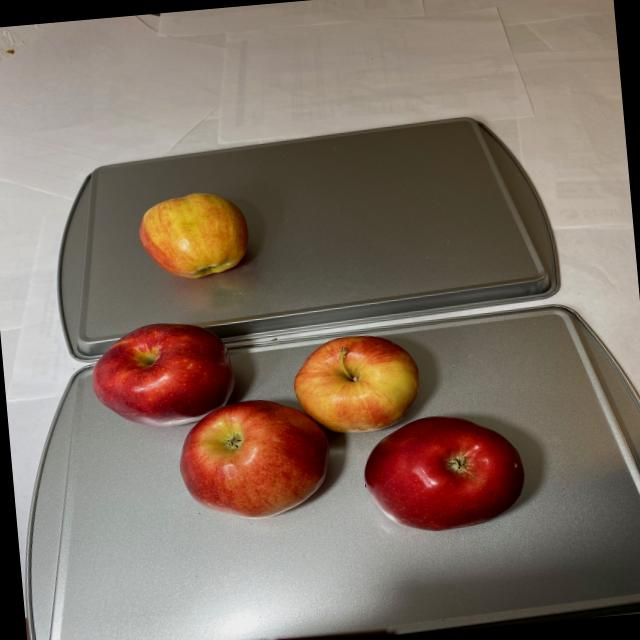apple: (89, 290, 534, 560), (133, 188, 255, 286)
